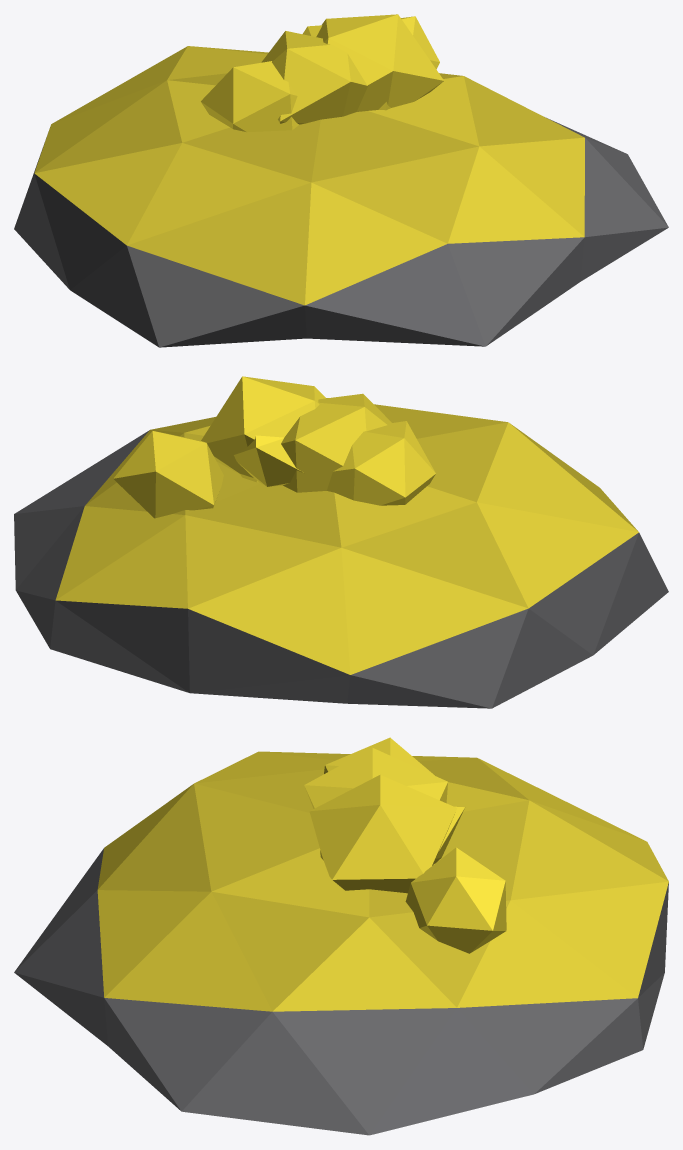
Rendered from sulfur_c.glb.
The picture shows the model from 3 angles, top to bottom: view 1: azimuth 30°, elevation 25°; view 2: azimuth 150°, elevation 25°; view 3: azimuth 270°, elevation 25°; orthographic projection. The views are drawn at different scales.
Visible parts, largest first — view 1: sulfur_c; view 2: sulfur_c; view 3: sulfur_c.
Part boxes in pixels (left/top/right/bottom): sulfur_c: left=14, top=14, right=668, bottom=347; sulfur_c: left=14, top=376, right=668, bottom=708; sulfur_c: left=14, top=737, right=668, bottom=1135.
Size of the model in its own units: 1.06 by 0.3472 by 0.981.
